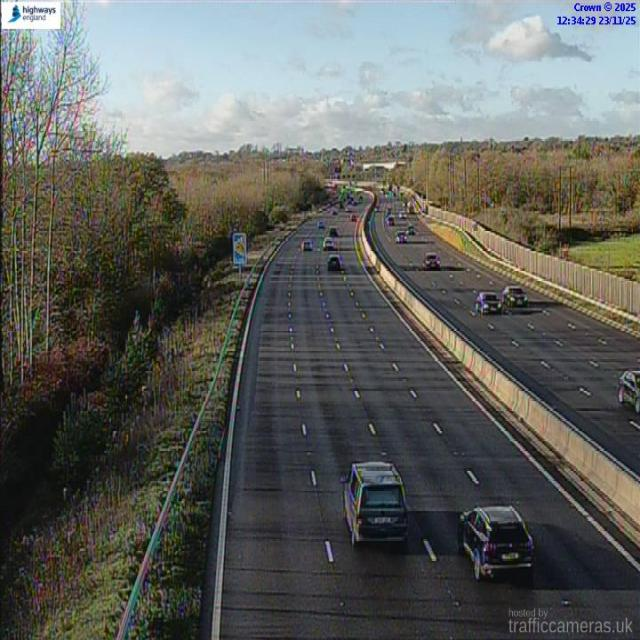foliage: (0, 4, 319, 526), (389, 136, 639, 218), (478, 209, 567, 252)
